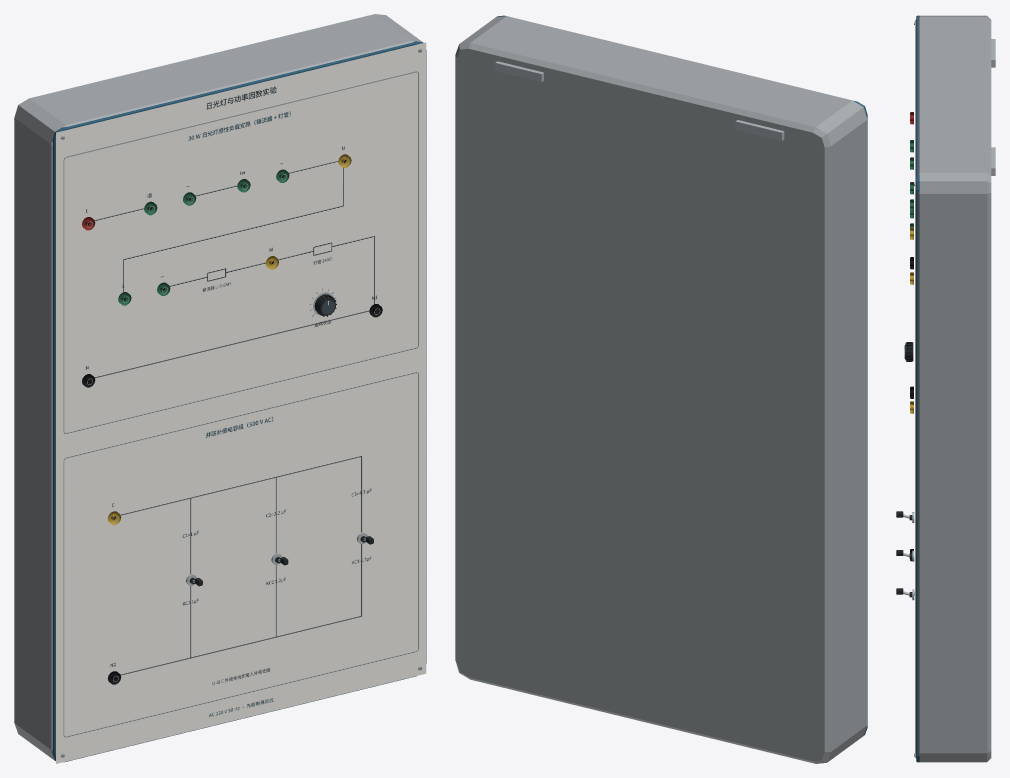
Rendered from module.glb.
3 views of the same model, side by side, from view 1: azimuth 30°, elevation 25°; view 2: azimuth 150°, elevation 25°; view 3: azimuth 270°, elevation 25° (orthographic). The views are drawn at different scales.
Parts seen in each view (by area): view 1: PANEL_silkscreen, STATIC_paint; view 2: STATIC_paint, STATIC_metal; view 3: STATIC_paint, STATIC_metal.
Part boxes in pixels (x1,y1,x2,y2): PANEL_silkscreen: (56,42,426,763); STATIC_paint: (14,14,426,762); STATIC_paint: (455,15,867,763); STATIC_metal: (495,61,784,140); STATIC_paint: (910,15,991,762); STATIC_metal: (912,21,995,756).
Size of the model in its own units: 0.29 by 0.47 by 0.0718.
Materials: 7 (1 with a texture image).
